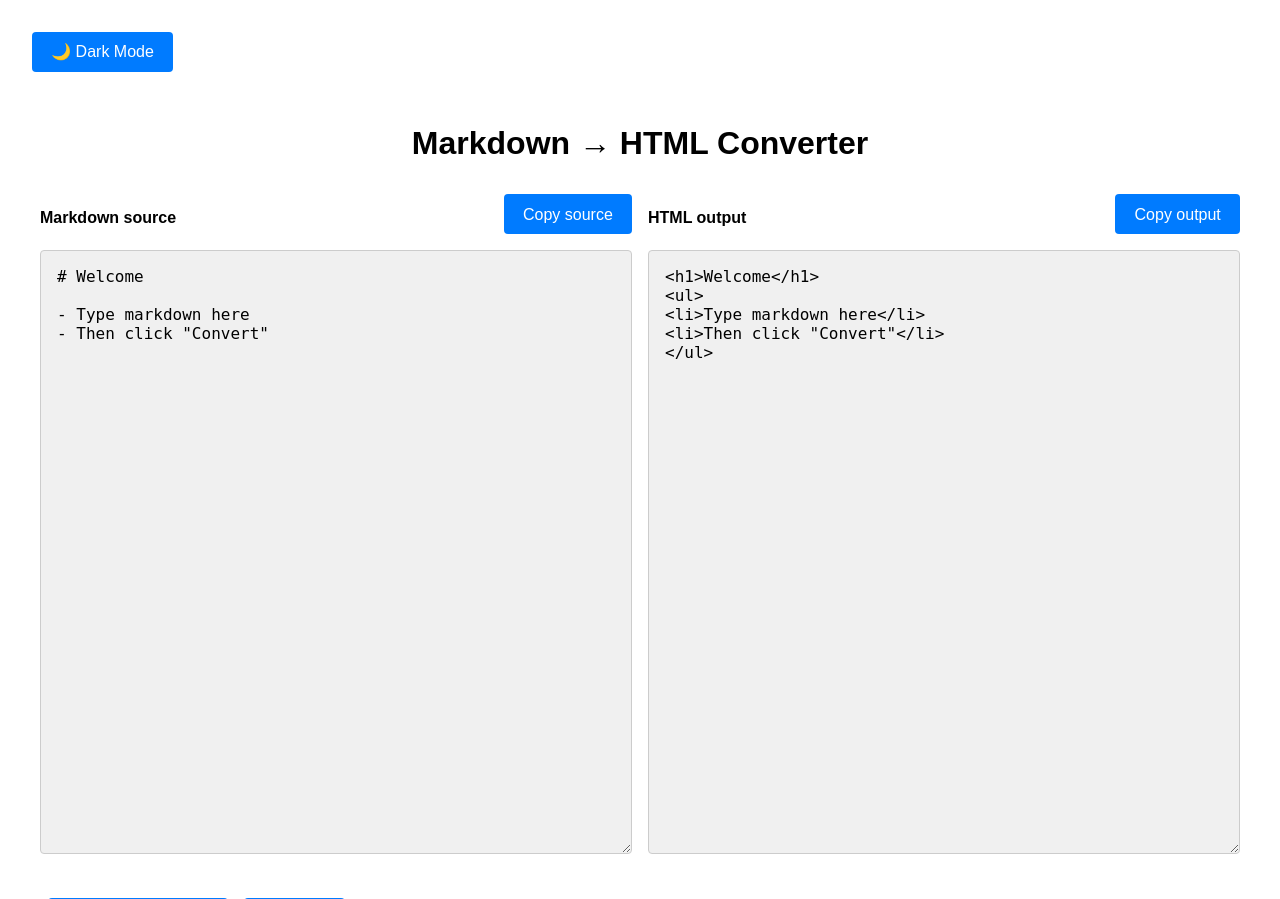
Test case: App › converts edited Markdown and clears both fields
This screenshot has width=1280, height=899.
Type "**Ready**" into the text box labelled "Markdown source". click: (336, 552)
box: [40,250,632,854]
(page scrolled)
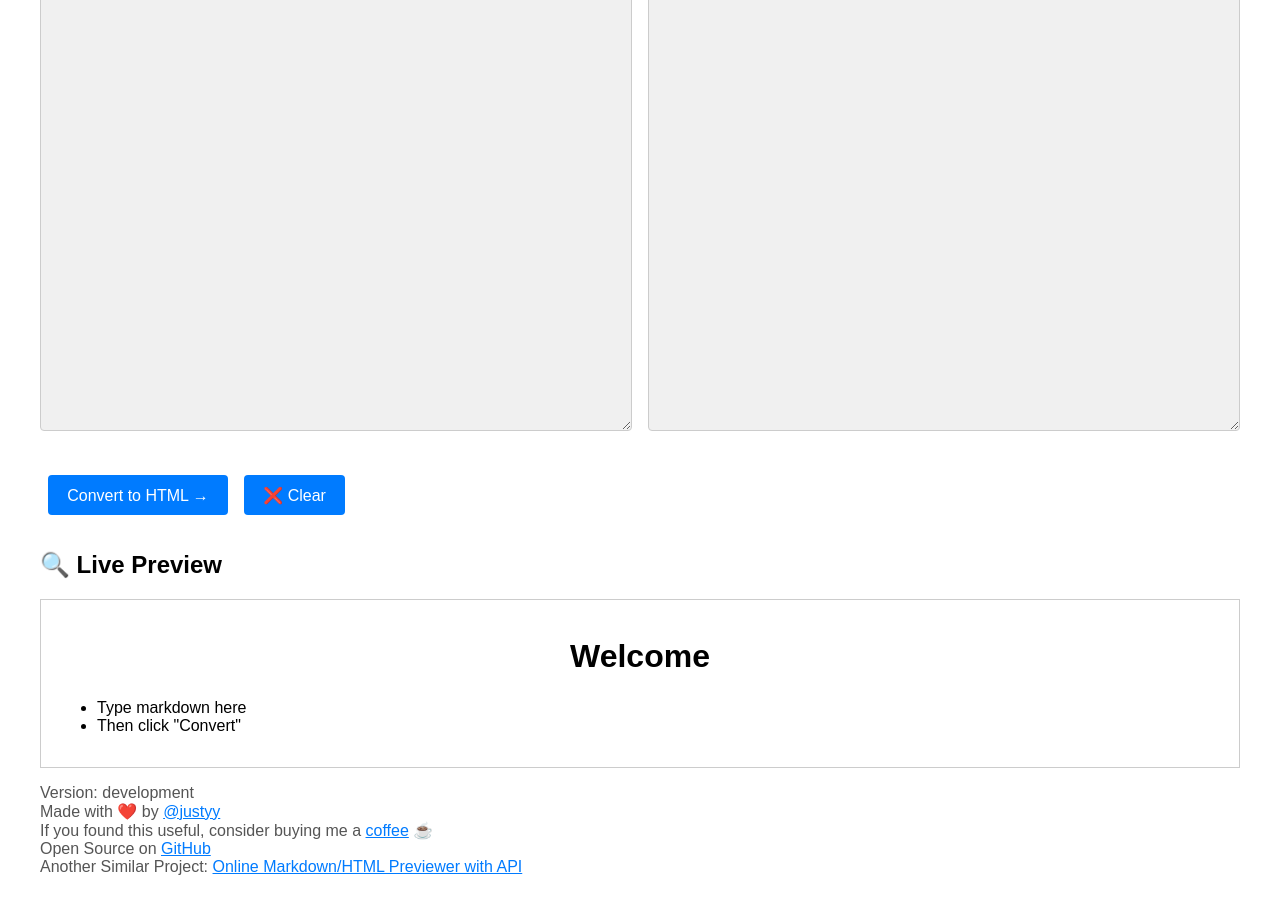
Click the button "Convert to HTML →". click: (138, 495)
box: [48,475,228,515]
(page scrolled)
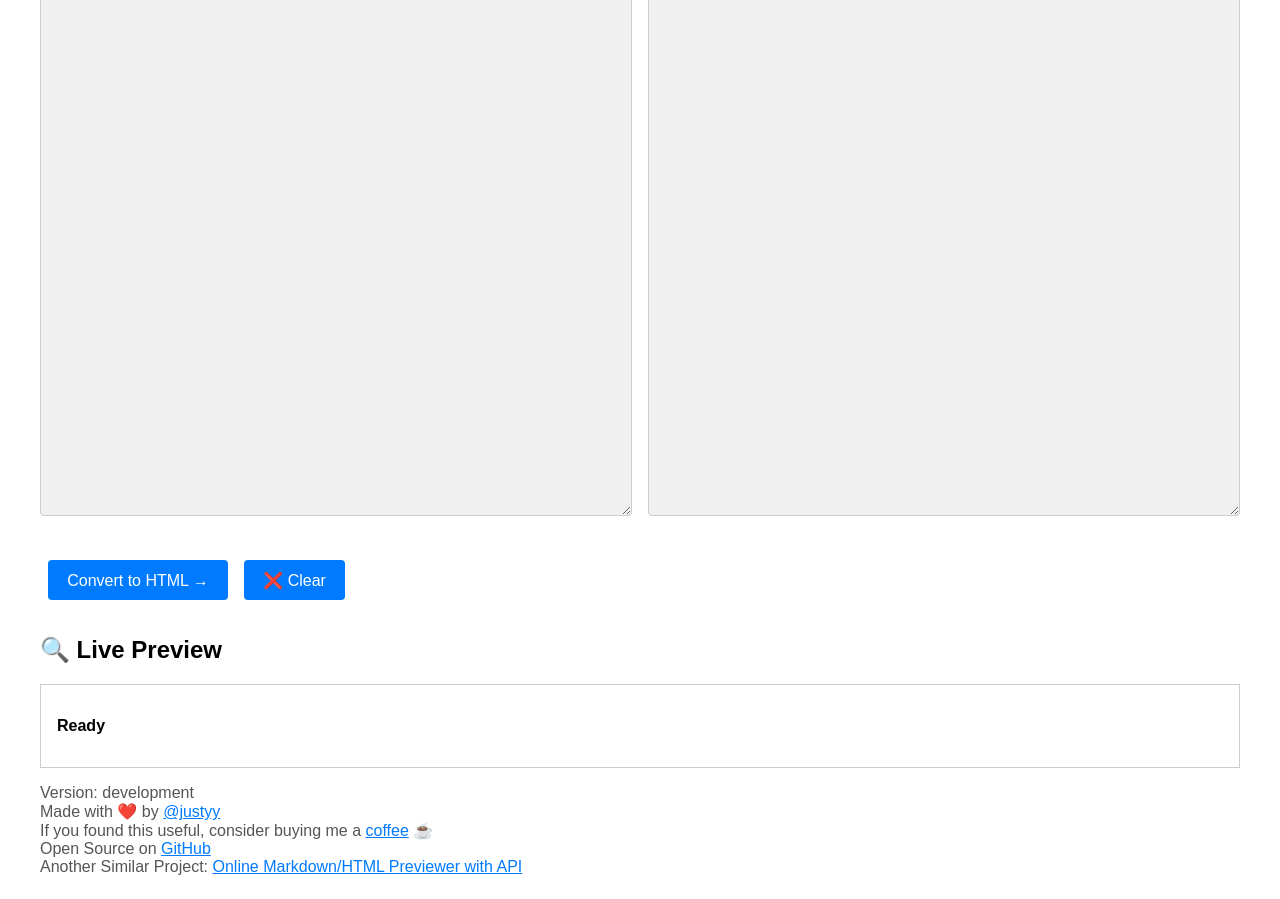
Expected: the text "Ready" is shown, [57,717,105,734]
Click the button "❌ Clear". click: (294, 580)
box: [244,560,345,600]
(page scrolled)
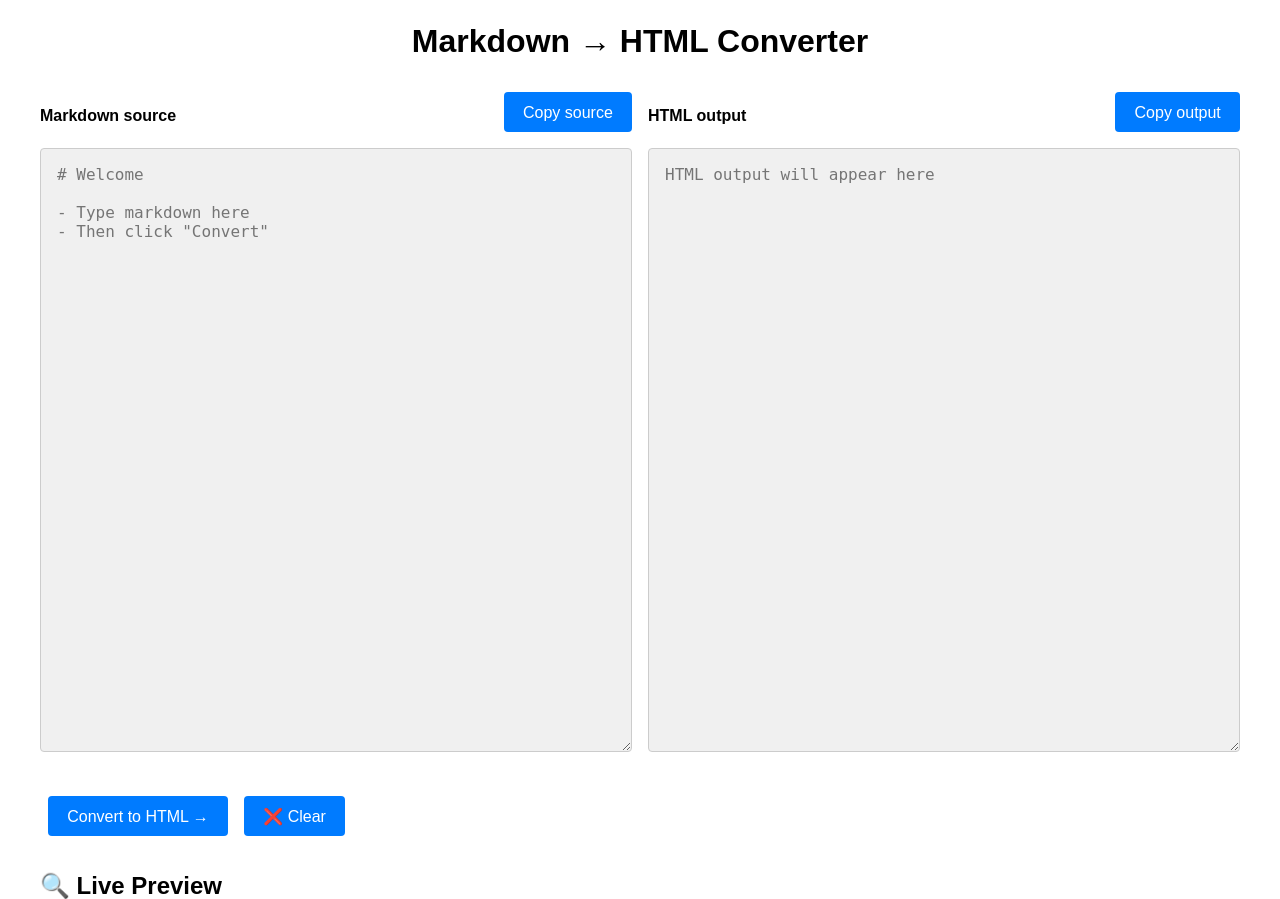
Expected: the text box labelled "Markdown source" is empty, [40,148,632,752]
Expected: the text box labelled "HTML output" is empty, [648,148,1240,752]
